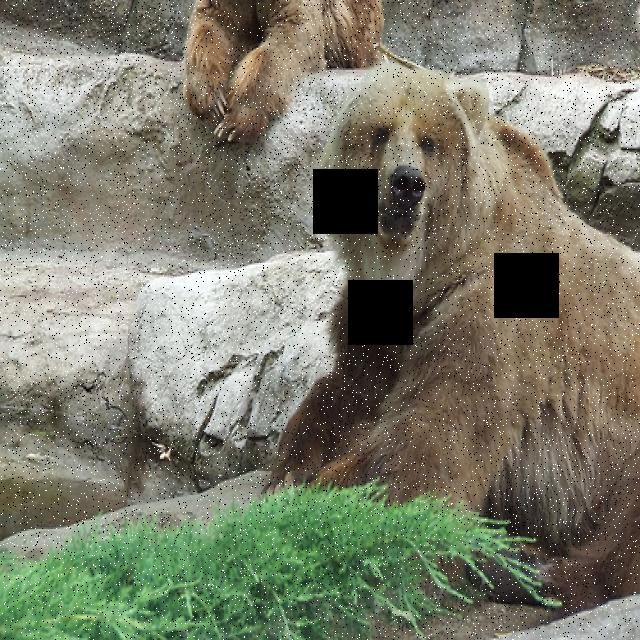Bear: (312, 53, 639, 640)
